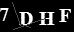7: (1, 7, 10, 22)
D: (18, 11, 34, 27)
F: (58, 8, 72, 23)
H: (37, 11, 56, 26)
